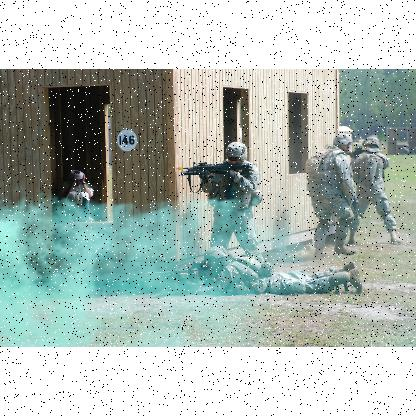gun: (175, 162, 249, 180)
